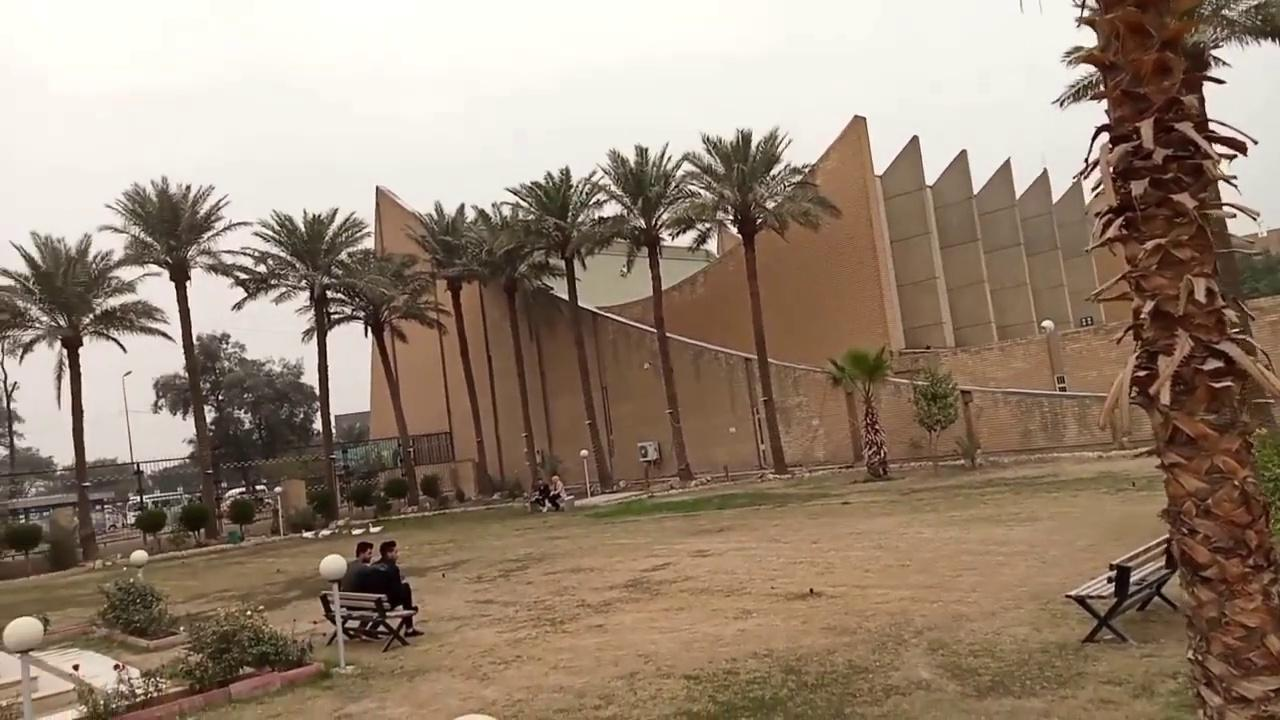person: (369, 540, 424, 637), (339, 540, 384, 640), (528, 478, 549, 512), (548, 473, 566, 511)
tree: (1049, 0, 1279, 718), (671, 124, 842, 476), (0, 229, 174, 560), (98, 174, 253, 543), (229, 205, 373, 523), (498, 165, 620, 494), (590, 141, 706, 481), (314, 247, 451, 509), (404, 199, 501, 499), (466, 200, 562, 493), (220, 355, 319, 461), (824, 344, 894, 478), (0, 289, 39, 488), (906, 362, 960, 474), (1, 379, 24, 474), (3, 521, 42, 577), (132, 505, 166, 550), (178, 498, 209, 544), (226, 495, 255, 541), (307, 484, 338, 526), (346, 478, 375, 515), (418, 471, 442, 510), (382, 476, 409, 510)
